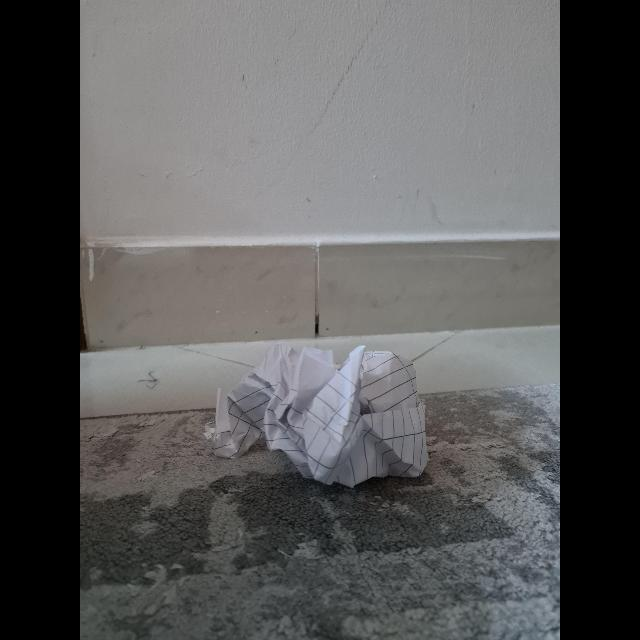scrap_paper: (200, 343, 430, 482)
